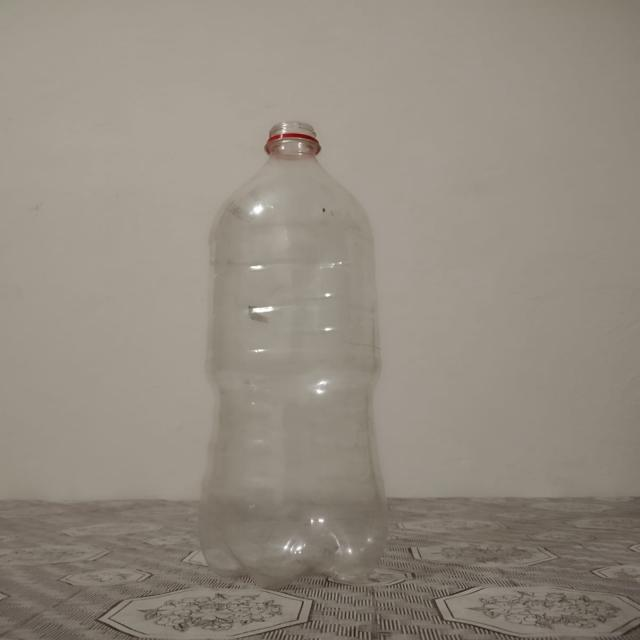bottle: (199, 117, 398, 592)
